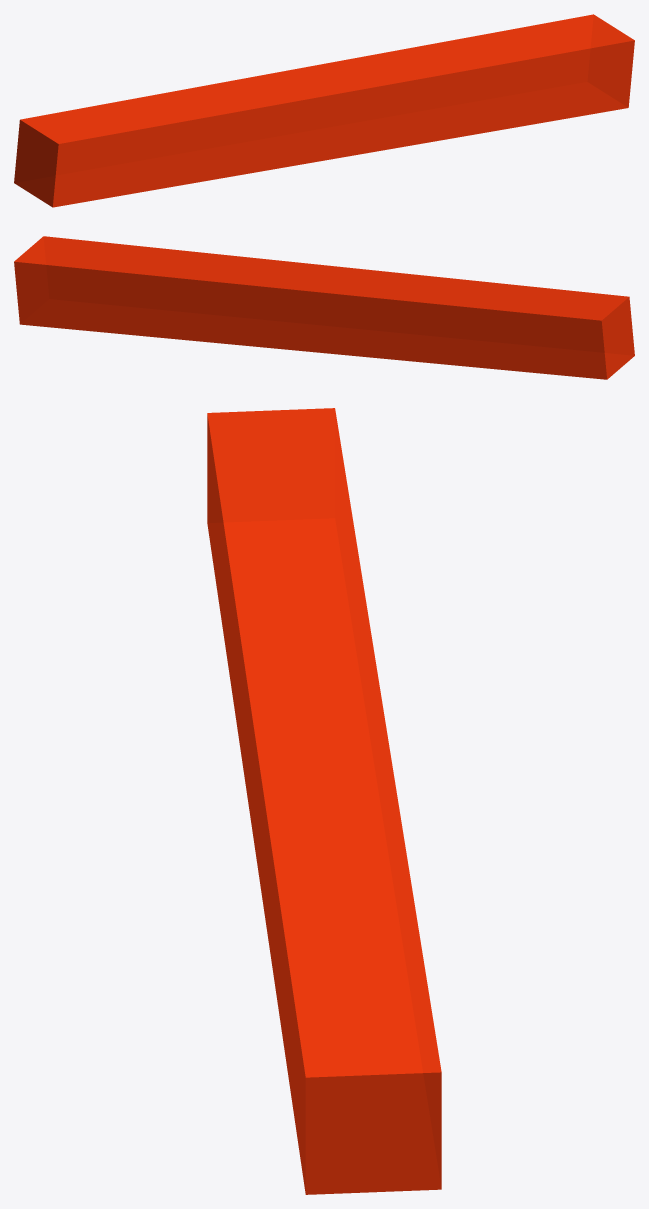
Rendered from Event_421115418_EErechit_106.fbx.
3 renders of one model, top to bottom at view 1: azimuth 30°, elevation 25°; view 2: azimuth 150°, elevation 25°; view 3: azimuth 270°, elevation 25°, orthographic. The views are drawn at different scales.
Parts seen in each view (by area): view 1: Model; view 2: Model; view 3: Model.
Part boxes in pixels (bbox=[...]): Model: bbox=[14, 14, 634, 207]; Model: bbox=[14, 236, 634, 379]; Model: bbox=[207, 408, 441, 1194].
Bounding box in the file's own units: 0.7467 × 0.1504 × 0.1327.
